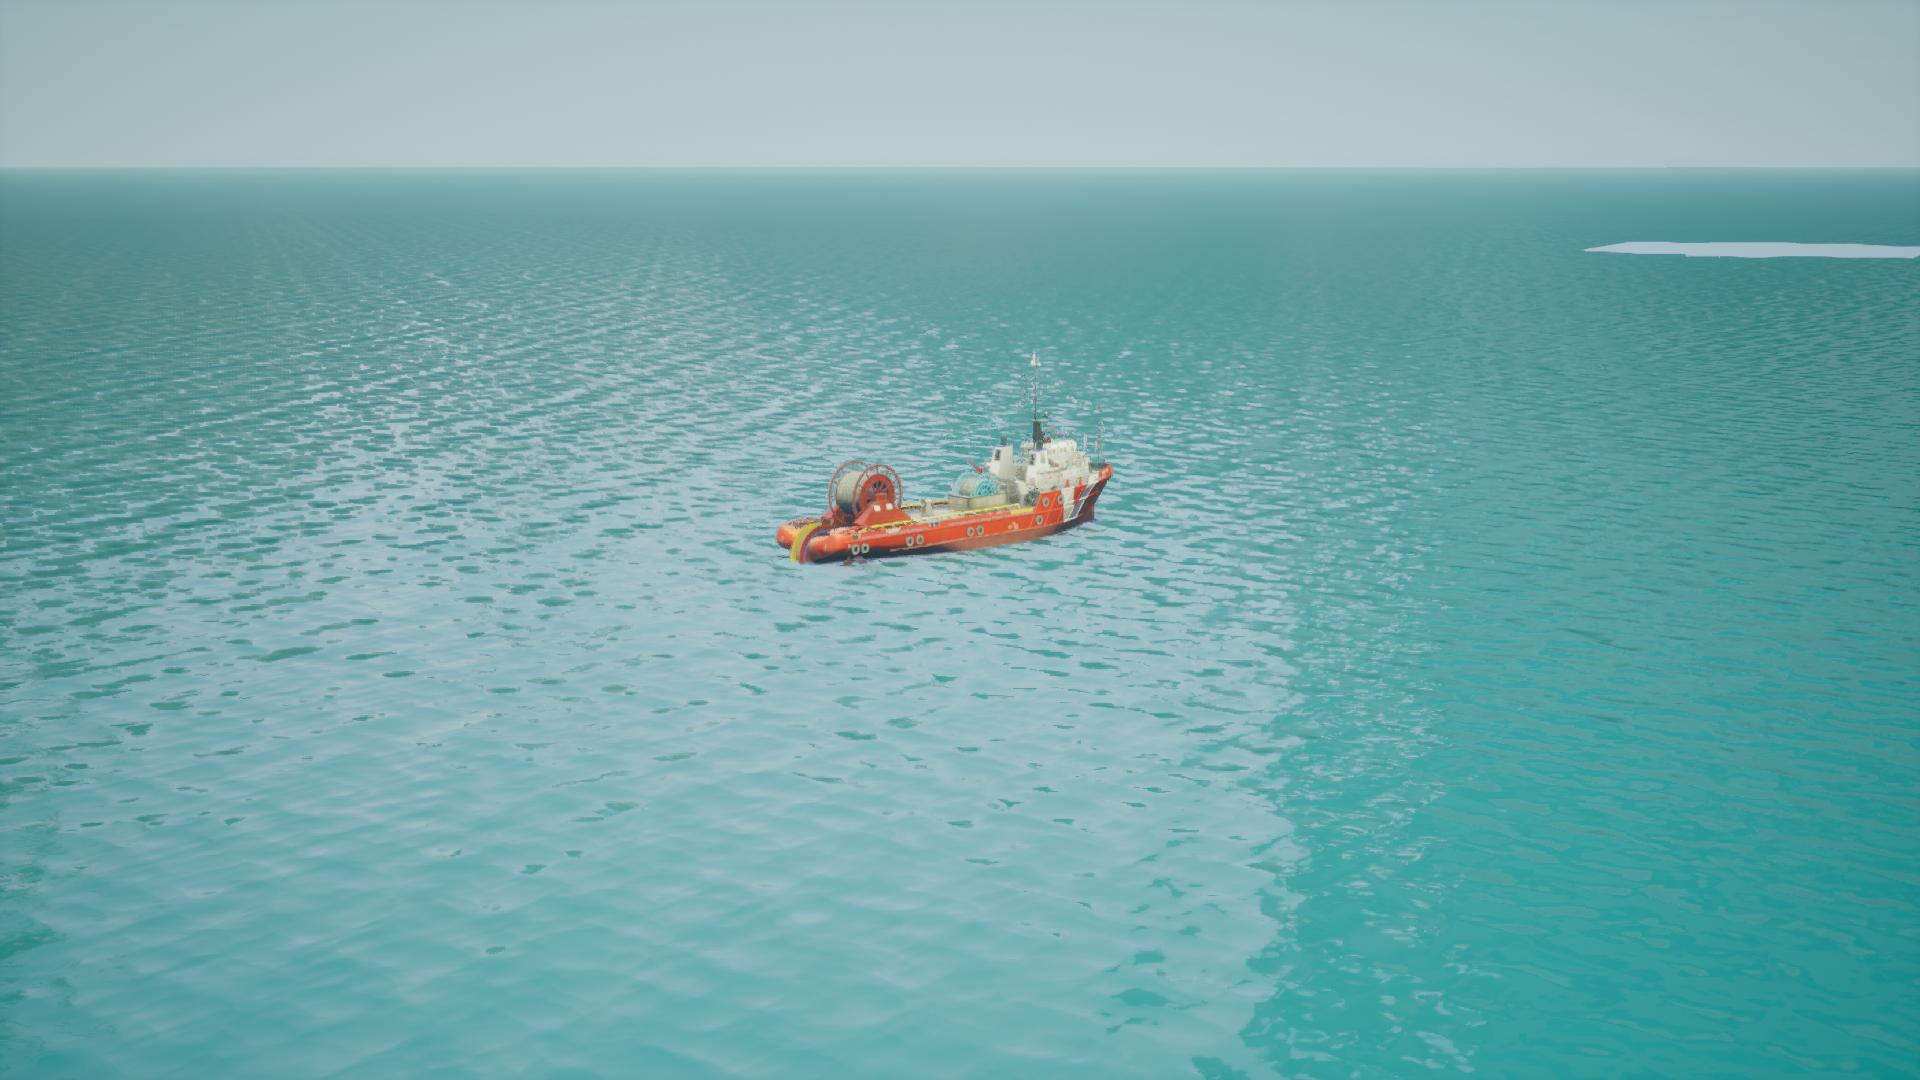Tug Boat: (781, 377, 1124, 571)
